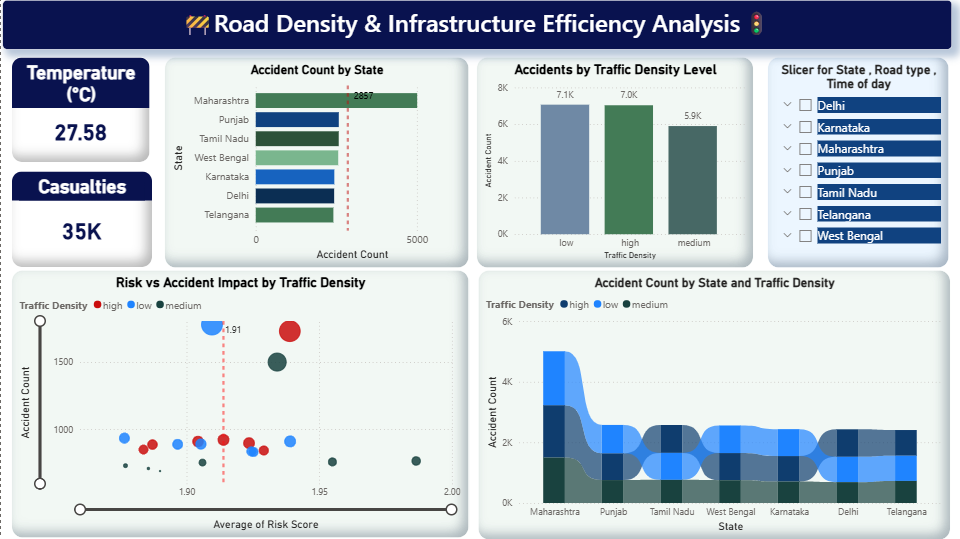

The dashboard page shown, as its layout file describes it:
{"tool":"powerbi","page":{"name":"Road Density & Efficiency","canvas":[1280,720],"ordinal":6},"visuals":[{"type":"scatterChart","title":"Risk vs Accident Impact by Traffic Density","fields":{"X":["Avg(Accident_Data.Risk Score)1"],"Y":["Accident_Data.Accident Count"],"Series":["Accident_Data.Traffic Density"],"Size":["Accident_Data.Total Casualties"],"Category":["Accident_Data.State"]},"box":[13.6,360.4,610.2,357.4],"z":0},{"type":"clusteredBarChart","fields":{"Category":["Accident_Data.State"],"Y":["Accident_Data.Accident Count"]},"box":[218,75.7,405.8,281.6],"z":1000},{"type":"clusteredColumnChart","title":"Accidents by Traffic Density Level","fields":{"Category":["Accident_Data.Traffic Density"],"Y":["Accident_Data.Accident Count"]},"box":[634.5,75.7,369.5,281.6],"z":2000},{"type":"slicer","title":"Slicer for State , Road type , Time of day","fields":{"Values":["Accident_Data.State","Accident_Data.Road Type","Accident_Data.Time of Day"]},"box":[1022.1,75.7,242.3,281.6],"z":3000},{"type":"ribbonChart","fields":{"Category":["Accident_Data.State"],"Series":["Accident_Data.Traffic Density"],"Y":["Accident_Data.Accident Count"]},"box":[635,360,630,360],"z":4000},{"type":"textbox","box":[2,0,1266,66],"z":5000},{"type":"card","title":"Casualties","fields":{"Values":["Sum(Accident_Data.Casualties)"]},"box":[13.6,228.6,187.8,128.7],"z":6000},{"type":"card","title":"Temperature (°C)","fields":{"Values":["Avg(Accident_Data.Temperature (°C))"]},"box":[13.6,75.7,184.7,140.8],"z":7000}]}

Visuals, with their boxes in screenshot pixels (x1, y1, x2, y2), scaled from the page's 1280x720 canvas onto the 960x539 screenshot:
"Risk vs Accident Impact by Traffic Density" scatterChart: <box>10,270,468,537</box>
clusteredBarChart - Accident_Data.State x Accident_Data.Accident Count: <box>164,57,468,267</box>
"Accidents by Traffic Density Level" clusteredColumnChart: <box>476,57,753,267</box>
"Slicer for State , Road type , Time of day" slicer: <box>767,57,948,267</box>
ribbonChart - Accident_Data.State x Accident_Data.Traffic Density: <box>476,270,949,538</box>
textbox: <box>2,0,951,49</box>
"Casualties" card: <box>10,171,151,267</box>
"Temperature (°C)" card: <box>10,57,149,162</box>
